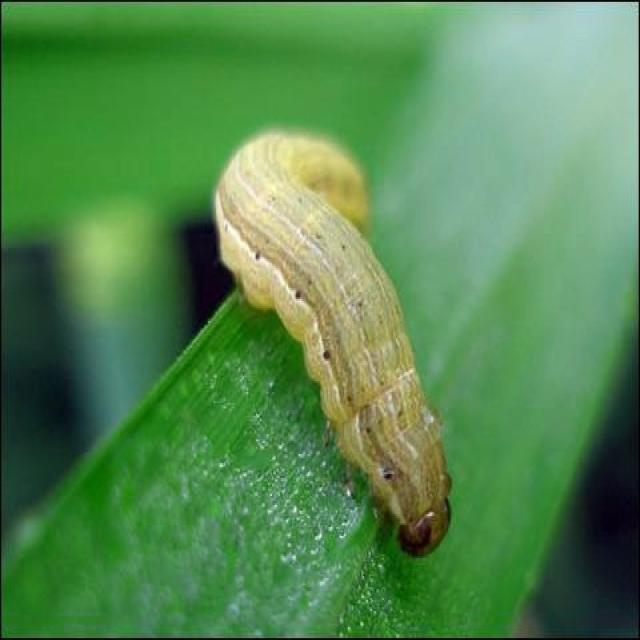army worm: (212, 120, 462, 560)
